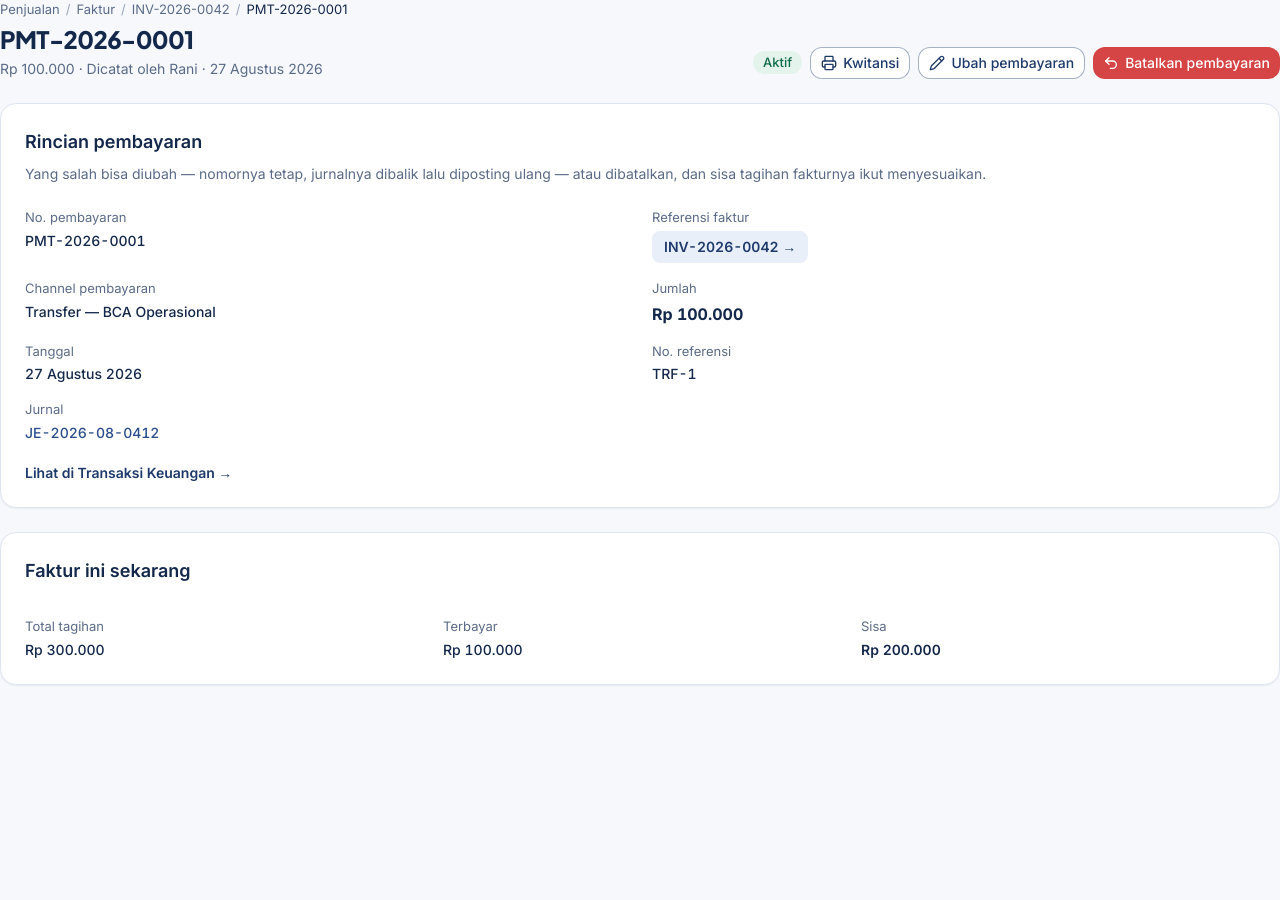
Test: InvoicePaymentDetail — cancelling it › closes with Kembali, not Batal
Click the button "Batalkan pembayaran" at (1187,63), box [1093, 47, 1279, 79]
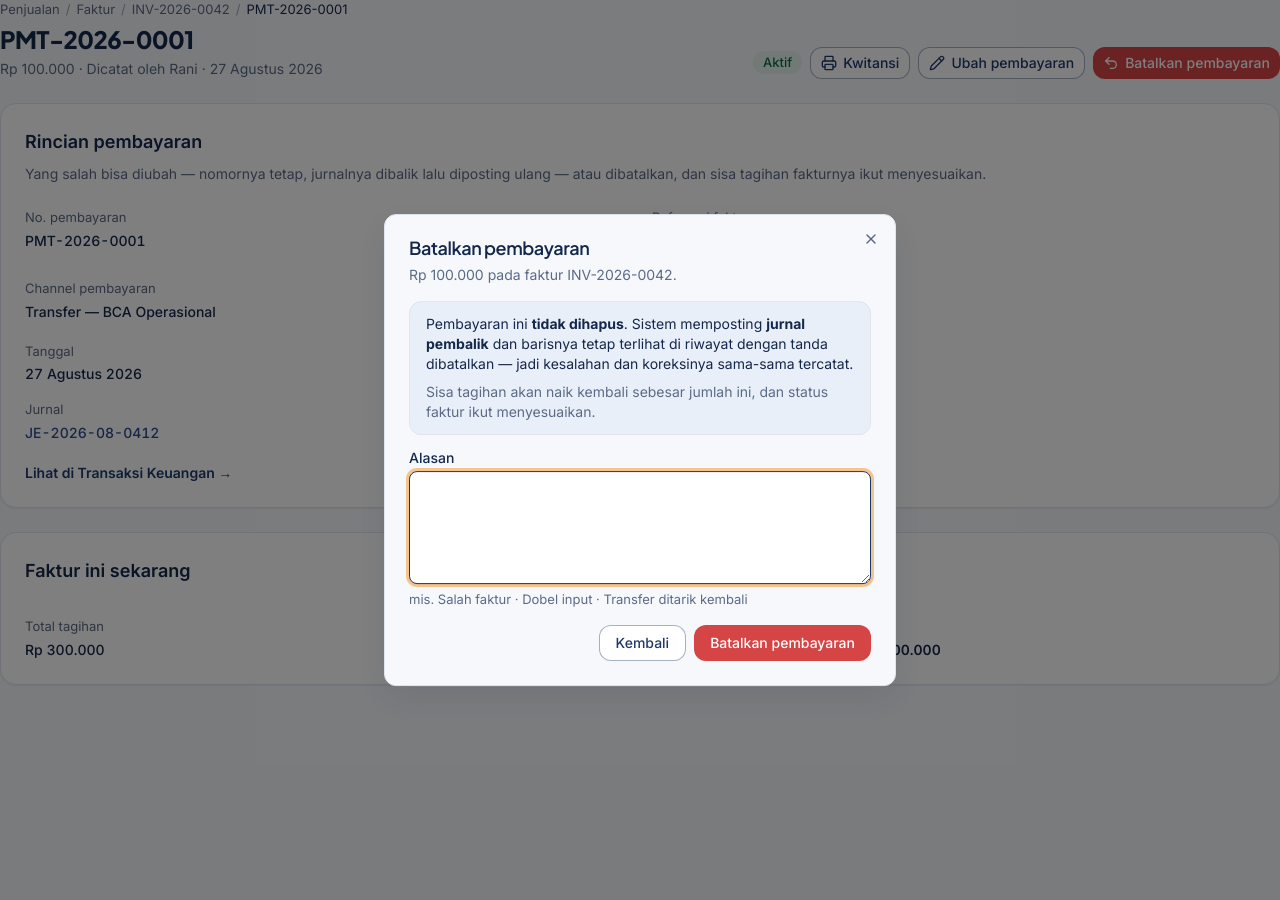
Now the button "Kembali" is shown, box [599, 625, 686, 661]
